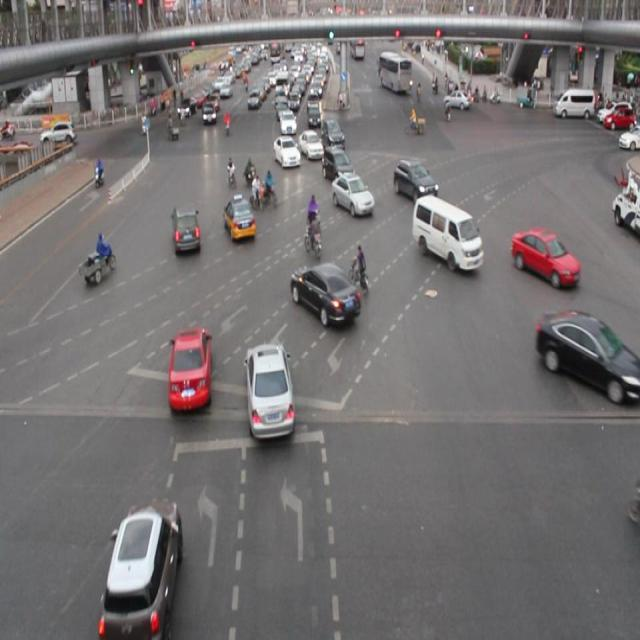car: (104, 495, 182, 640), (536, 310, 632, 403), (243, 341, 296, 440), (289, 260, 362, 325), (166, 323, 214, 418), (511, 225, 577, 287), (391, 153, 438, 201), (330, 170, 376, 216), (171, 200, 201, 258), (223, 192, 256, 243), (321, 144, 355, 184), (273, 134, 301, 168), (297, 126, 323, 161)
truck: (409, 193, 484, 270)
